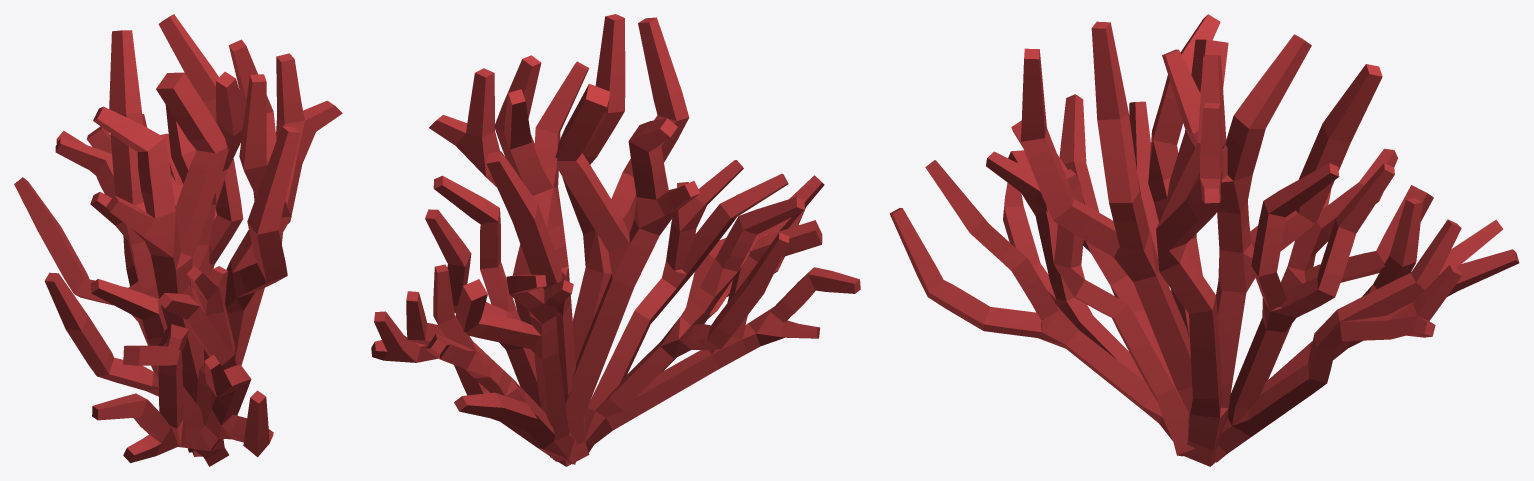
The model's file is coral.glb.
3 views of the same model, side by side, from view 1: azimuth 30°, elevation 25°; view 2: azimuth 150°, elevation 25°; view 3: azimuth 270°, elevation 25° (orthographic). The views are drawn at different scales.
Parts seen in each view (by area): view 1: Cube.117; view 2: Cube.117; view 3: Cube.117.
Boxes of the visible parts, box(x1,y1,x2,y2) form: Cube.117: box(14, 14, 342, 466); Cube.117: box(371, 14, 860, 466); Cube.117: box(889, 14, 1519, 466).
Size of the model in its own units: 1.07 by 1.26 by 1.64.
1 material, 1 textured.
